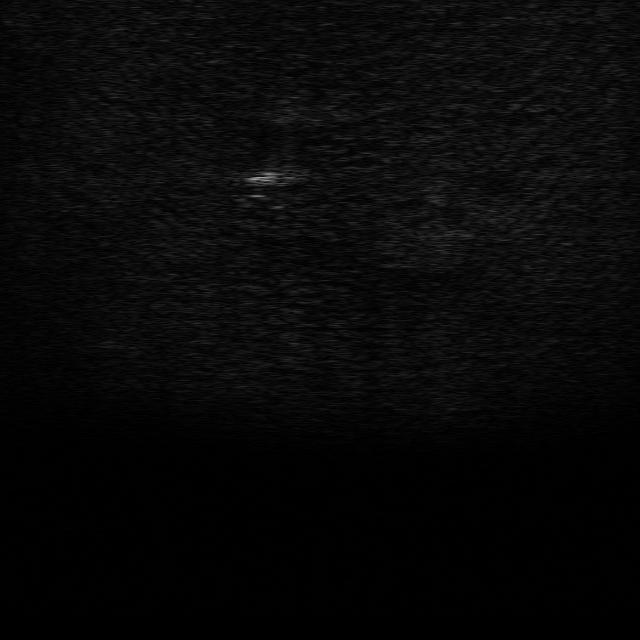plane: (236, 160, 318, 200)
